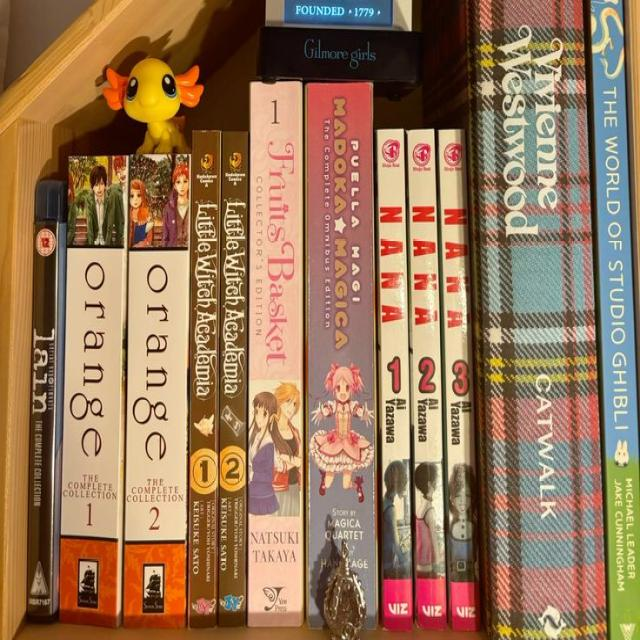book: (468, 0, 608, 639), (307, 82, 378, 628), (121, 148, 190, 625), (59, 155, 128, 624), (244, 80, 303, 626), (590, 0, 639, 639), (408, 126, 447, 624), (375, 128, 412, 629), (26, 179, 66, 619), (440, 129, 474, 626), (189, 130, 222, 626), (216, 131, 249, 625)
